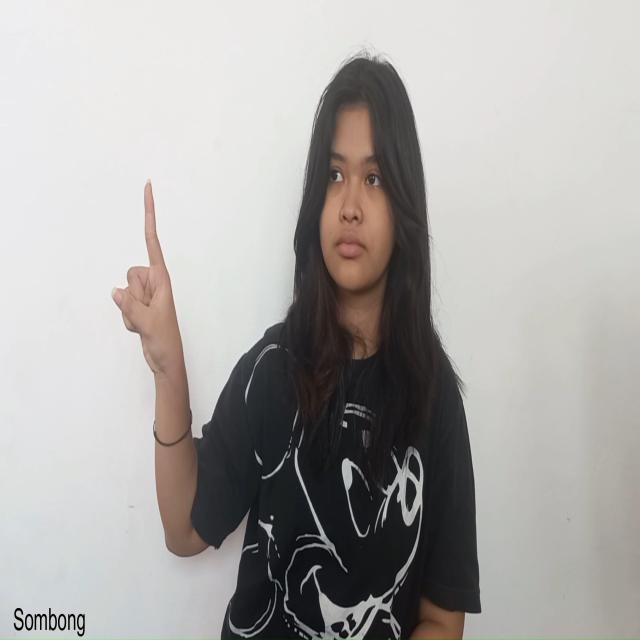Sombong -BISINDO-: (109, 175, 190, 381)
